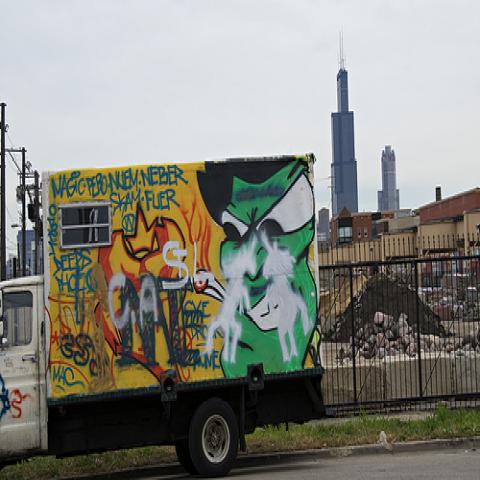truck: (0, 154, 325, 469)
